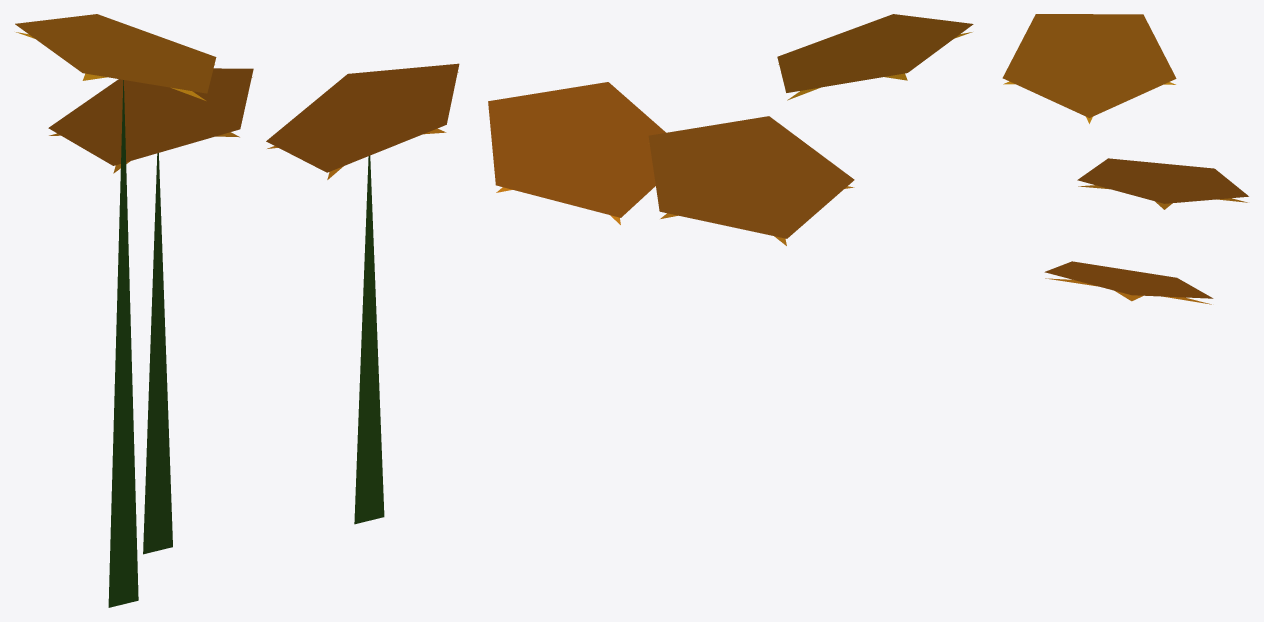
Rendered from YellowFlowers.glb.
3 renders of one model, left to right at view 1: azimuth 30°, elevation 25°; view 2: azimuth 150°, elevation 25°; view 3: azimuth 270°, elevation 25°, orthographic. The views are drawn at different scales.
Visible parts, largest first — view 1: YellowFlowers; view 2: YellowFlowers; view 3: YellowFlowers.
Boxes of the visible parts, x1,y1,x2,y2 form: YellowFlowers: (15, 14, 459, 607); YellowFlowers: (488, 14, 973, 245); YellowFlowers: (1002, 14, 1248, 304).
Bounding box in the file's own units: 0.8744 × 1.1 × 0.5398.
